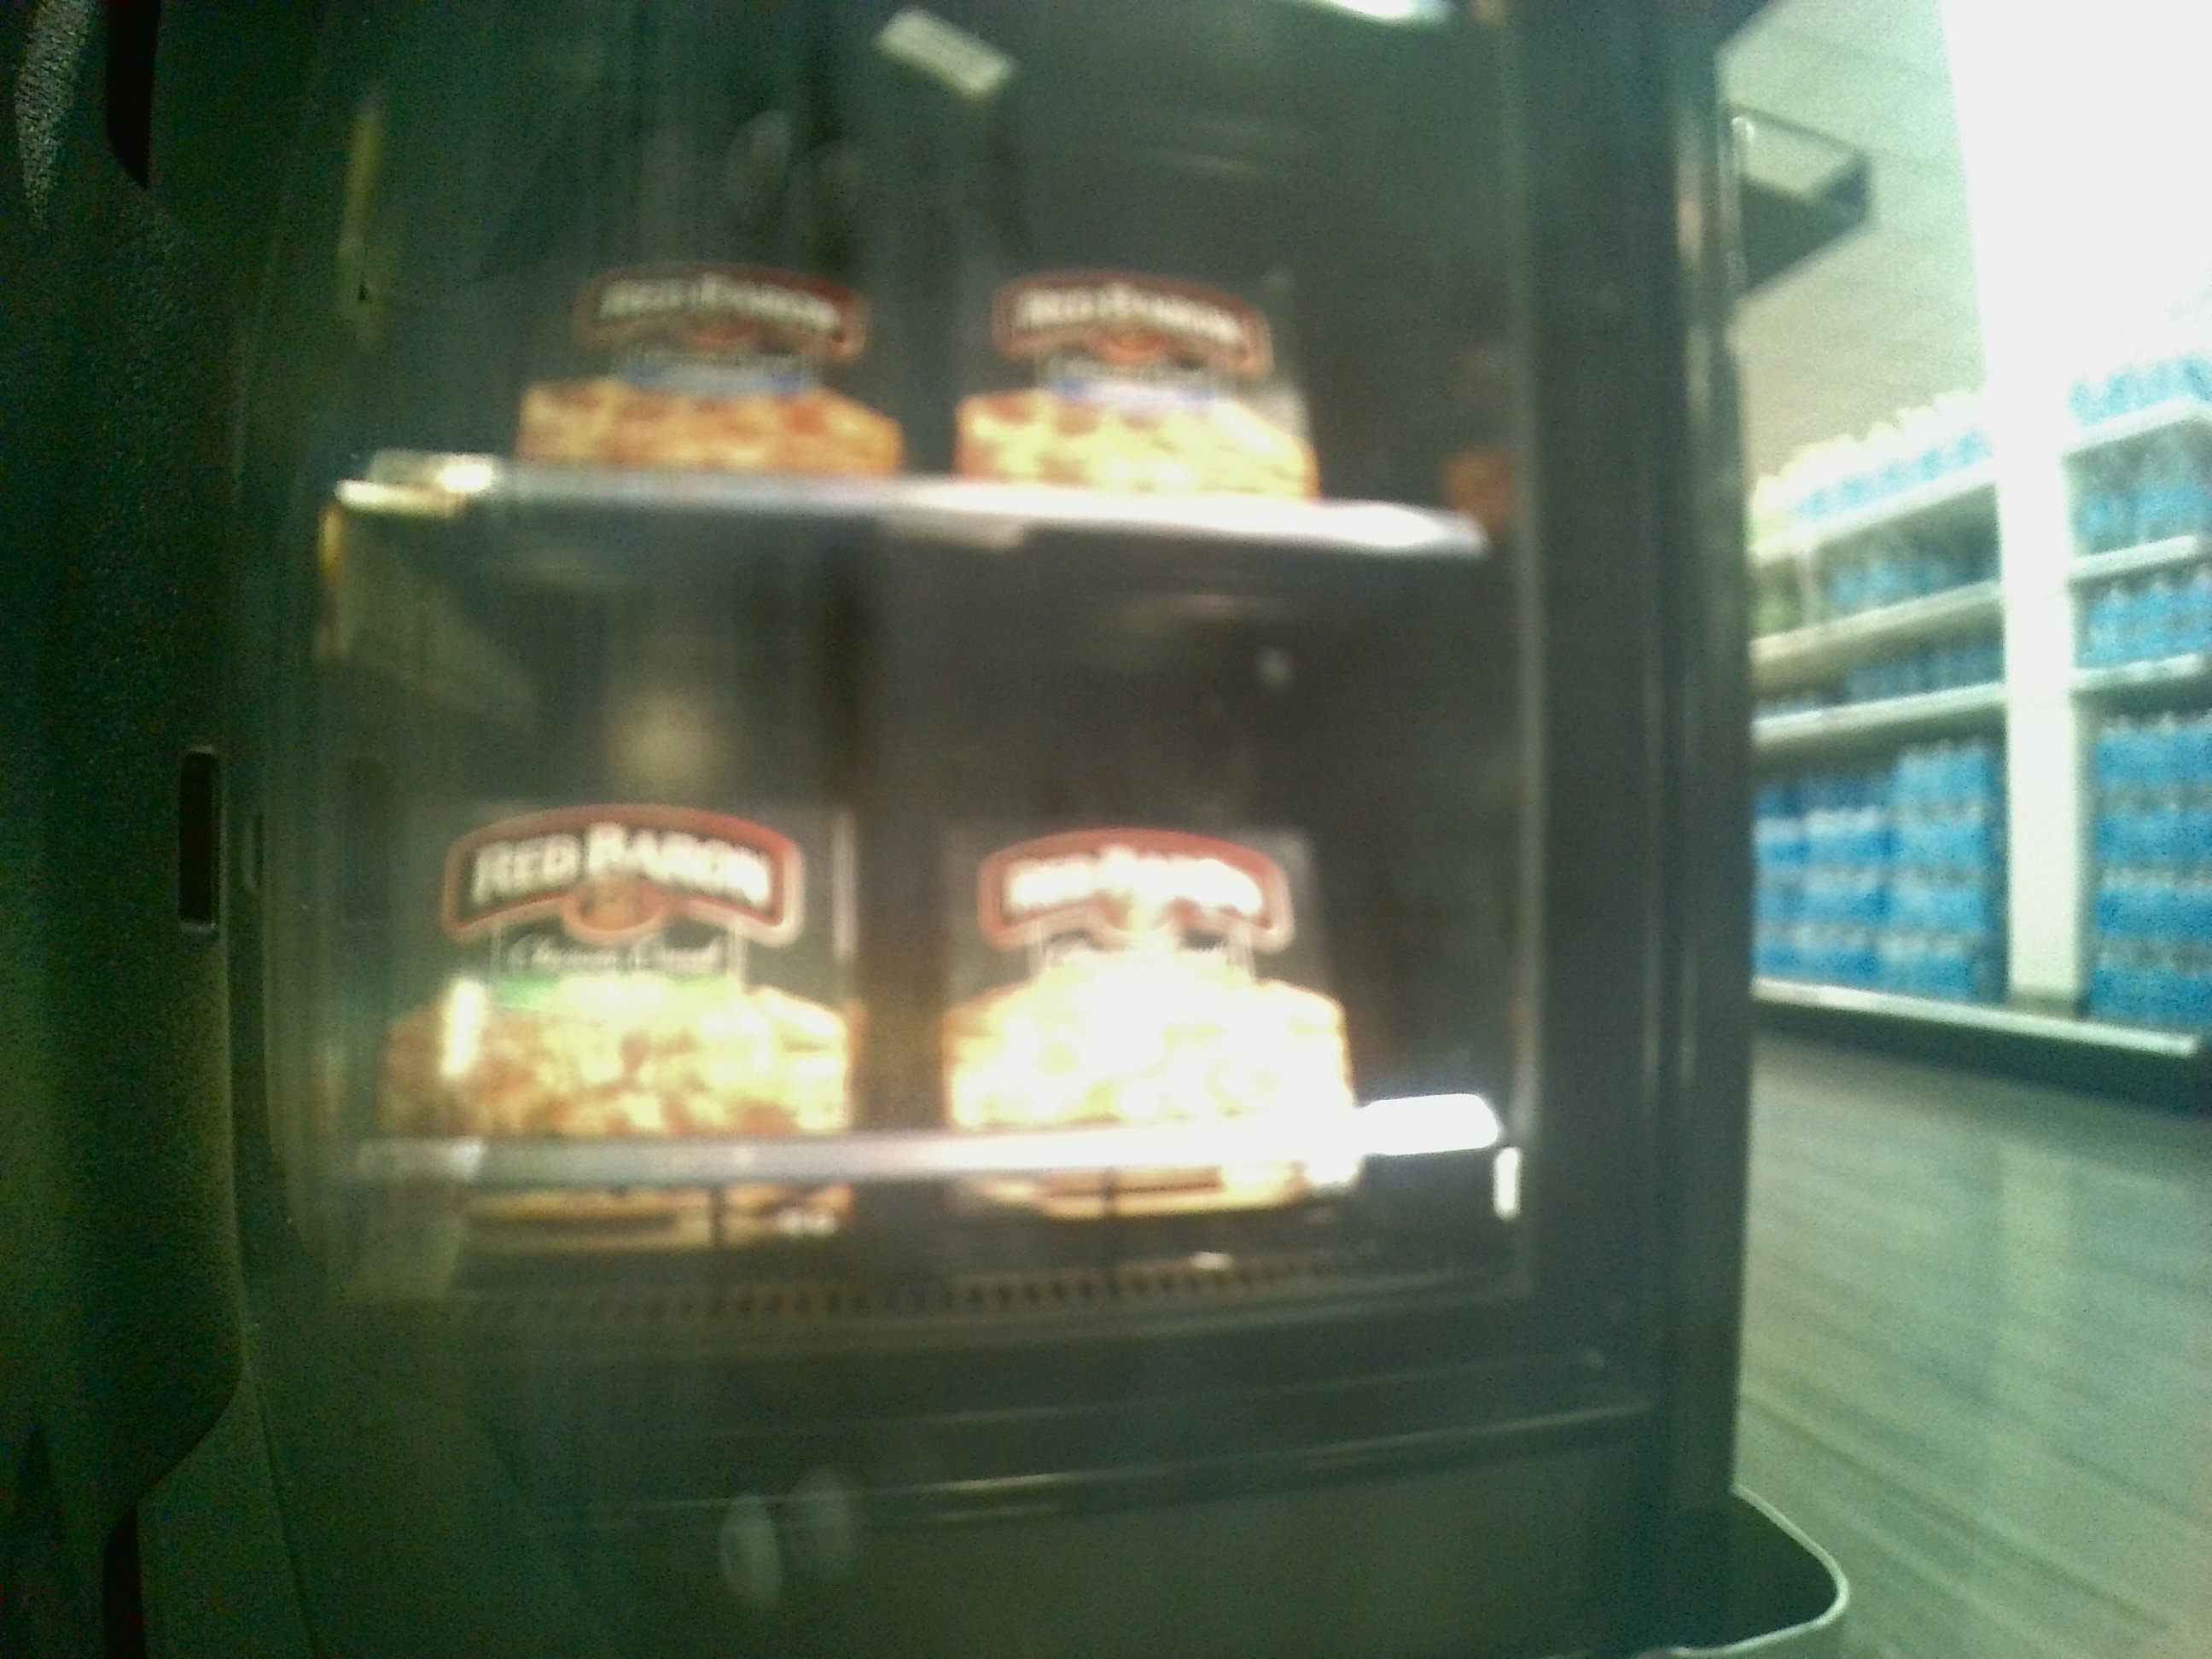shelf: (347, 512, 1512, 1272)
